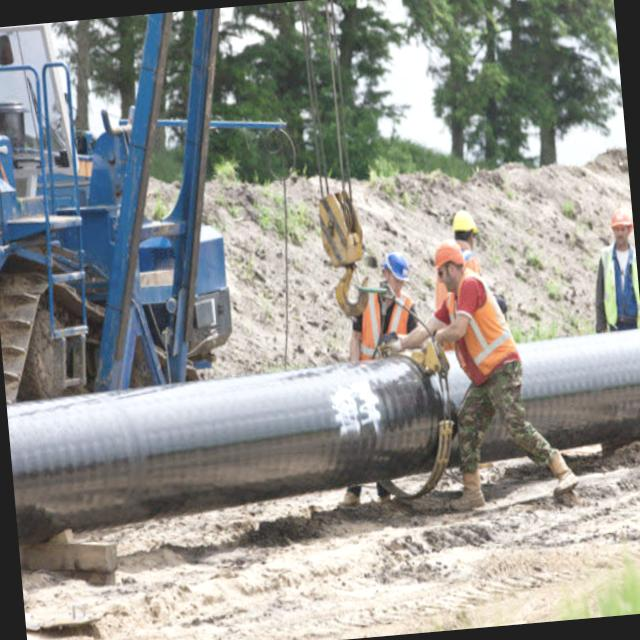gas: (3, 346, 386, 538), (491, 321, 640, 444)
